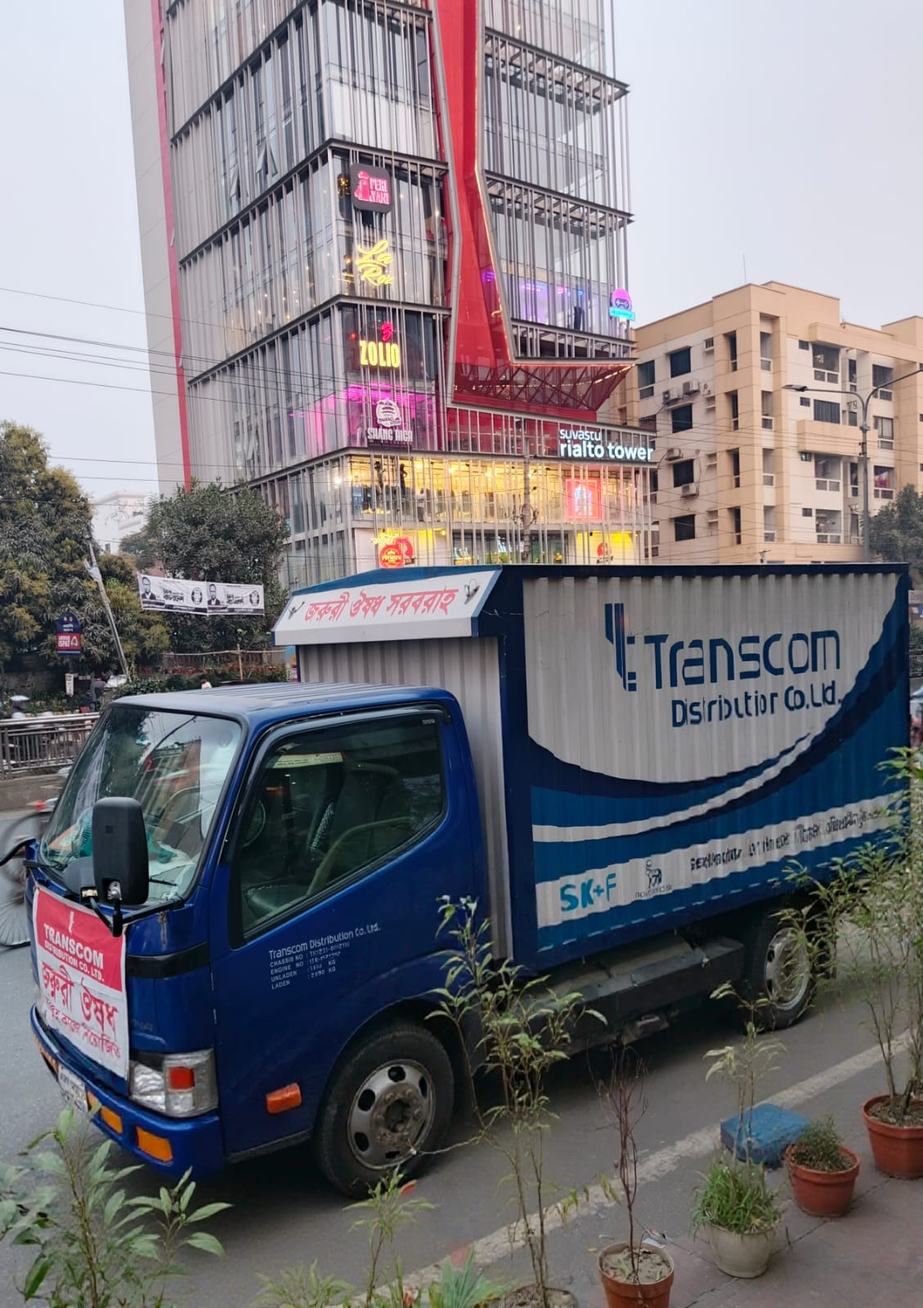Pickup: (20, 537, 923, 1185)
